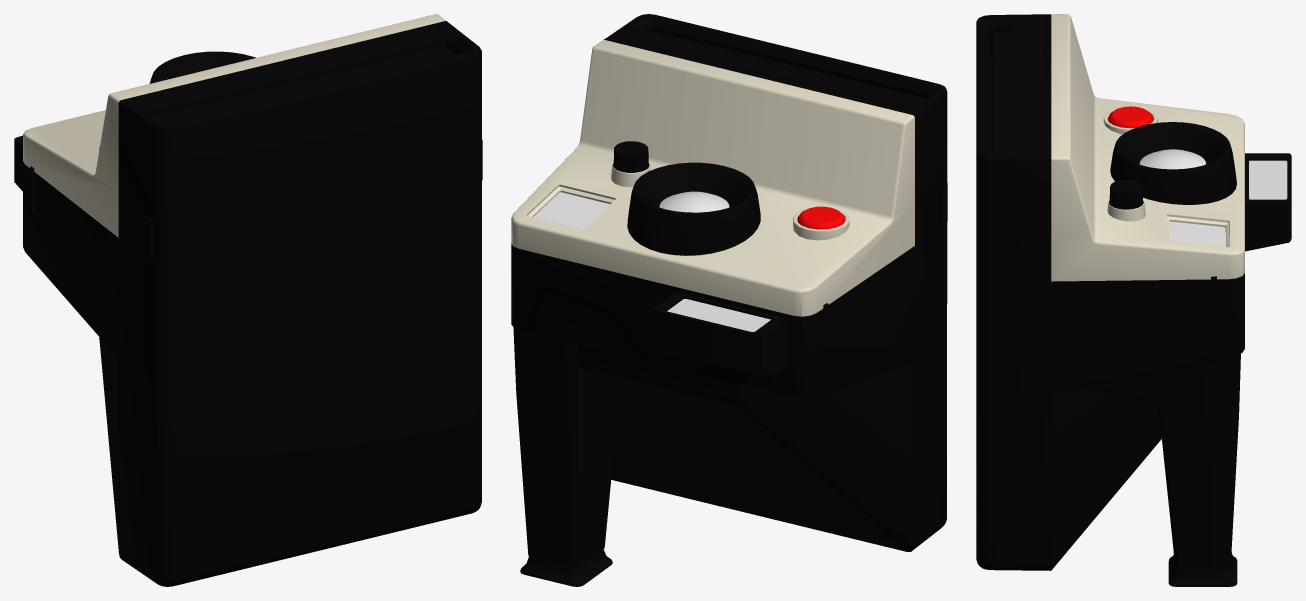
Rendered from Camara.fbx.
The picture shows the model from 3 angles, left to right: view 1: azimuth 30°, elevation 25°; view 2: azimuth 150°, elevation 25°; view 3: azimuth 270°, elevation 25°; orthographic projection. The views are drawn at different scales.
Parts seen in each view (by area): view 1: Camara; view 2: Camara, CamaraPartesDeCristal; view 3: Camara, CamaraPartesDeCristal.
Part boxes in pixels (<box>): Camara: <box>14,14,482,586</box>; Camara: <box>511,14,947,586</box>; CamaraPartesDeCristal: <box>533,191,770,331</box>; Camara: <box>976,14,1291,586</box>; CamaraPartesDeCristal: <box>1139,149,1287,246</box>.
Size of the model in its own units: 0.2024 by 0.2824 by 0.1853.
